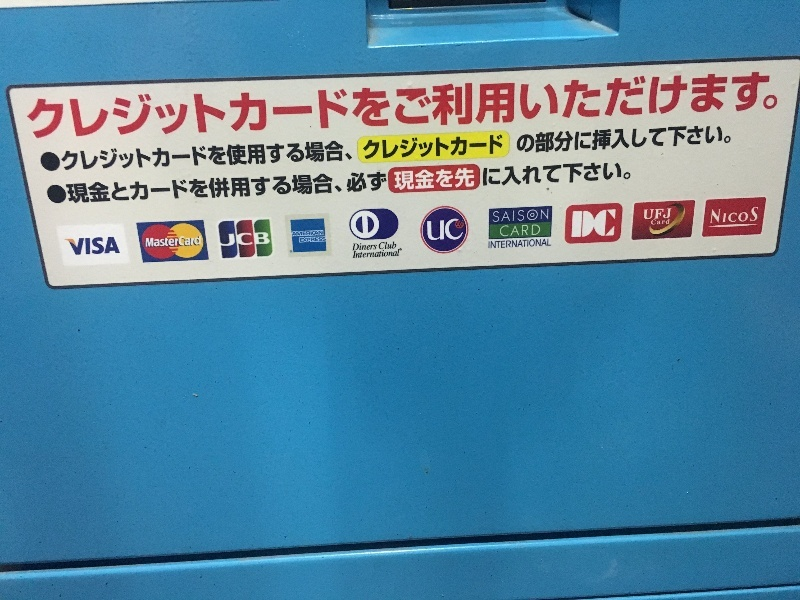text: (33, 70, 48, 142), (49, 70, 64, 142), (65, 70, 80, 142), (81, 70, 96, 142), (97, 70, 112, 142), (113, 70, 128, 142), (129, 70, 144, 142), (145, 70, 160, 142), (161, 70, 176, 142), (177, 70, 192, 142), (193, 70, 208, 142), (209, 70, 224, 142), (225, 70, 240, 142), (241, 70, 256, 142), (257, 70, 272, 142), (273, 70, 288, 142), (289, 70, 304, 142), (305, 70, 320, 142), (321, 70, 336, 142), (337, 70, 352, 142), (353, 70, 368, 142), (369, 70, 384, 142), (385, 70, 400, 142), (401, 70, 416, 142), (417, 70, 432, 142), (433, 70, 448, 142), (449, 70, 464, 142), (465, 70, 480, 142), (481, 70, 496, 142), (497, 70, 512, 142), (513, 70, 528, 142), (529, 70, 544, 142), (545, 70, 560, 142), (561, 70, 576, 142), (577, 70, 592, 142), (593, 70, 608, 142), (609, 70, 624, 142), (625, 70, 640, 142), (641, 70, 656, 142), (657, 70, 672, 142), (673, 70, 688, 142), (689, 70, 704, 142), (705, 70, 720, 142), (721, 70, 736, 142), (737, 70, 752, 142), (753, 70, 768, 142), (769, 70, 781, 142), (337, 136, 353, 175), (65, 136, 80, 175), (81, 136, 96, 175), (97, 136, 112, 175), (113, 136, 128, 175), (129, 136, 144, 175), (145, 136, 160, 175), (161, 136, 176, 175), (177, 136, 192, 175), (193, 136, 208, 175), (209, 136, 224, 175), (225, 136, 240, 175), (241, 136, 256, 175), (257, 136, 272, 175), (273, 136, 288, 175), (289, 136, 304, 175), (305, 136, 320, 175), (321, 136, 336, 175), (353, 158, 368, 196), (369, 158, 384, 196), (385, 158, 400, 196), (401, 158, 416, 196), (417, 158, 432, 196), (433, 158, 448, 196), (449, 158, 464, 196), (465, 158, 480, 196), (481, 158, 496, 196), (497, 158, 512, 196), (513, 158, 528, 196), (529, 158, 544, 196), (545, 158, 560, 196), (561, 158, 576, 196), (577, 158, 592, 196), (593, 158, 608, 196), (609, 158, 624, 196), (25, 70, 32, 142), (529, 122, 544, 155), (545, 122, 560, 155), (561, 122, 576, 155), (577, 122, 592, 155), (593, 122, 608, 155), (609, 122, 624, 155), (625, 122, 640, 155), (641, 122, 656, 155), (657, 122, 672, 155), (673, 122, 688, 155), (689, 122, 704, 155), (705, 122, 720, 155), (65, 172, 80, 205), (81, 172, 96, 205), (97, 172, 112, 205), (113, 172, 128, 205), (129, 172, 144, 205), (145, 172, 160, 205), (161, 172, 176, 205), (177, 172, 192, 205), (193, 172, 208, 205), (209, 172, 224, 205), (225, 172, 240, 205), (241, 172, 256, 205), (257, 172, 272, 205), (273, 172, 288, 205), (289, 172, 304, 205), (305, 172, 320, 205), (321, 172, 336, 205), (577, 209, 592, 238), (593, 209, 608, 238), (369, 133, 384, 161), (385, 133, 400, 161), (401, 133, 416, 161), (417, 133, 432, 161), (433, 133, 448, 161), (449, 133, 464, 161), (465, 133, 480, 161), (481, 133, 496, 161), (516, 122, 528, 155), (721, 122, 732, 155), (433, 218, 448, 242), (449, 218, 464, 242), (625, 158, 633, 196), (81, 237, 96, 257), (97, 237, 112, 257), (66, 237, 80, 257), (721, 207, 736, 224), (737, 207, 752, 224), (225, 233, 240, 248), (241, 233, 256, 248), (497, 208, 512, 223), (513, 208, 528, 223), (529, 208, 544, 223), (257, 233, 271, 248), (609, 209, 616, 238), (497, 133, 504, 161), (59, 136, 64, 175), (145, 236, 160, 249), (161, 236, 176, 249), (177, 236, 192, 249), (513, 225, 528, 237), (657, 208, 672, 220), (362, 133, 368, 161), (337, 172, 342, 205), (497, 238, 512, 249), (513, 238, 528, 249), (529, 238, 544, 249), (113, 237, 121, 257), (348, 158, 352, 196), (369, 249, 384, 259), (385, 249, 400, 259), (500, 225, 512, 237), (529, 225, 541, 237), (644, 208, 656, 220), (354, 249, 368, 259), (712, 207, 720, 224), (427, 218, 432, 242), (354, 243, 368, 251), (385, 241, 397, 250), (193, 236, 201, 249), (753, 207, 759, 224), (657, 218, 670, 225), (305, 230, 320, 236), (305, 237, 320, 243), (573, 209, 576, 238), (489, 238, 496, 249), (545, 238, 552, 249), (369, 243, 378, 251), (293, 230, 304, 236), (220, 233, 224, 248), (545, 208, 549, 223), (379, 241, 384, 250), (493, 208, 496, 223), (651, 218, 656, 225), (321, 237, 326, 243), (401, 249, 416, 251), (300, 237, 304, 243), (321, 230, 323, 236)
